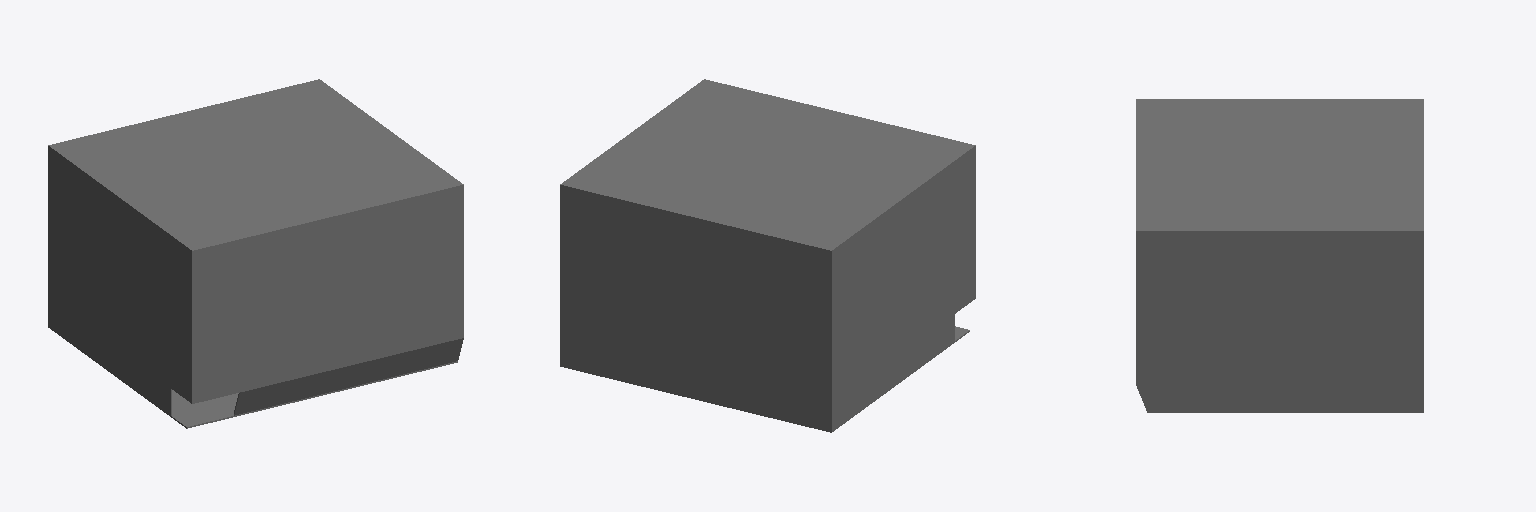
File: Background_3.obj
3 renders of one model, left to right at view 1: azimuth 30°, elevation 25°; view 2: azimuth 150°, elevation 25°; view 3: azimuth 270°, elevation 25°, orthographic.
Parts seen in each view (by area): view 1: Box047; view 2: Box047; view 3: Box047.
Boxes of the visible parts, x1=… form: Box047: x1=48, y1=79, x2=463, y2=428; Box047: x1=560, y1=79, x2=975, y2=432; Box047: x1=1136, y1=99, x2=1423, y2=412.
Bounding box in the file's own units: 23.62 × 15.12 × 21.73.